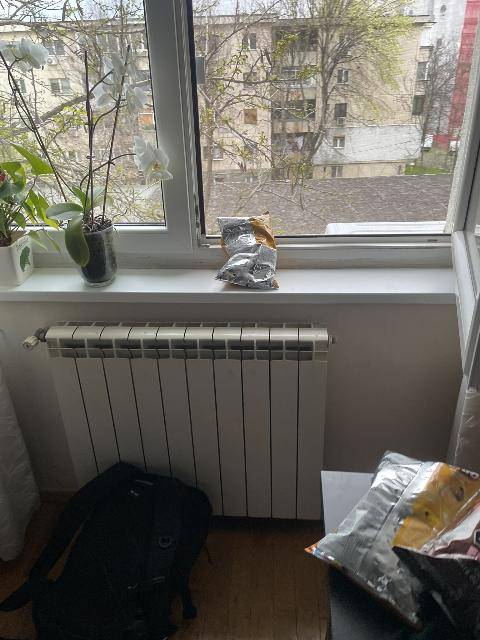Chio Cascaval 125g: (315, 450, 473, 632)
Chio Hula Hoops Cheese 70g: (213, 212, 279, 289)
